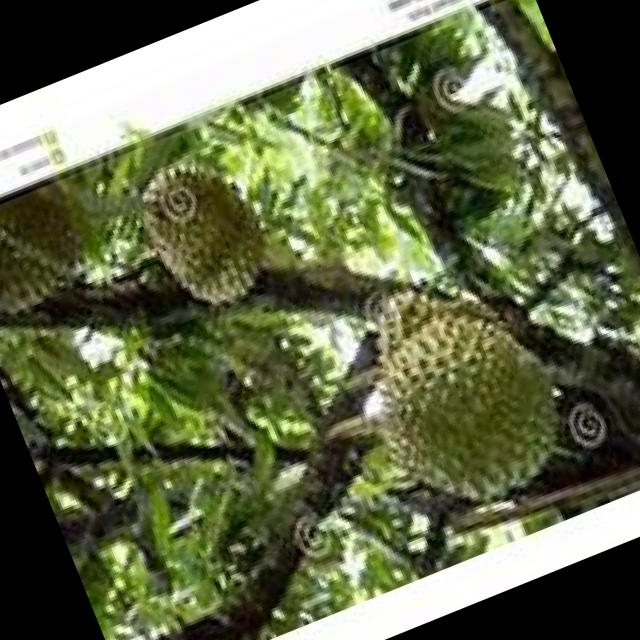fruit: (105, 134, 296, 336)
